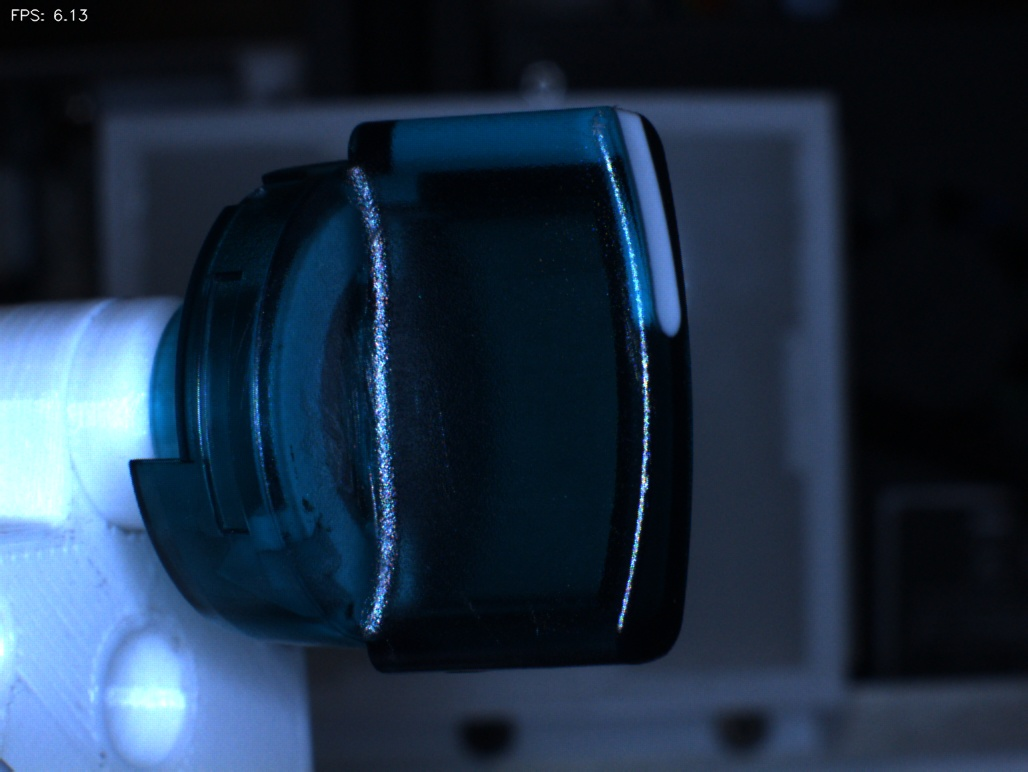Givrage: (434, 574, 573, 651), (317, 309, 367, 502)
